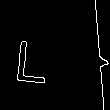L_N: (20, 31, 60, 85)
